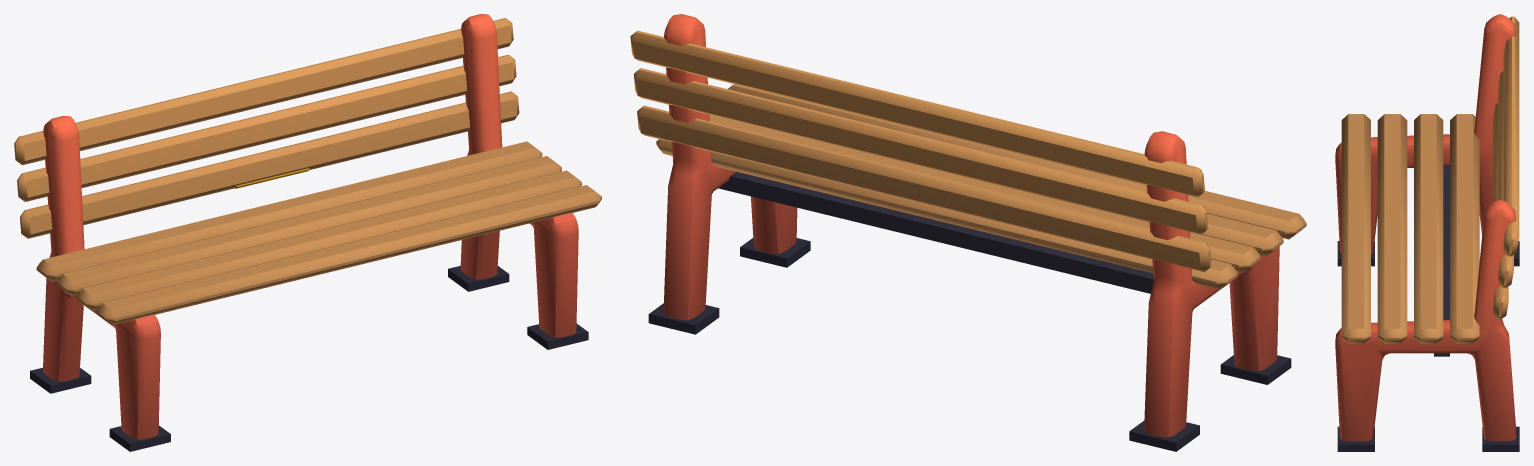
The model's file is bench_city.glb.
3 renders of one model, left to right at view 1: azimuth 30°, elevation 25°; view 2: azimuth 150°, elevation 25°; view 3: azimuth 270°, elevation 25°, orthographic. The views are drawn at different scales.
Visible parts, largest first — view 1: bench_city; view 2: bench_city; view 3: bench_city.
Boxes of the visible parts, x1,y1,x2,y2 form: bench_city: (14, 14, 601, 451); bench_city: (630, 14, 1306, 451); bench_city: (1335, 14, 1519, 451).
Size of the model in its own units: 1.95 by 0.9904 by 0.6887.
